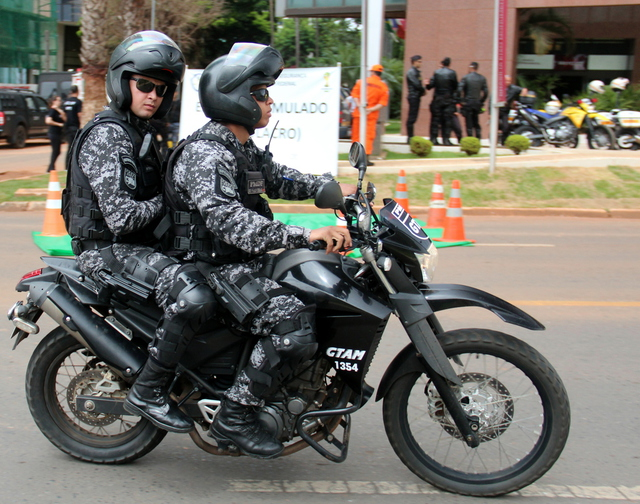helmet: (106, 34, 195, 113), (205, 61, 273, 125)
